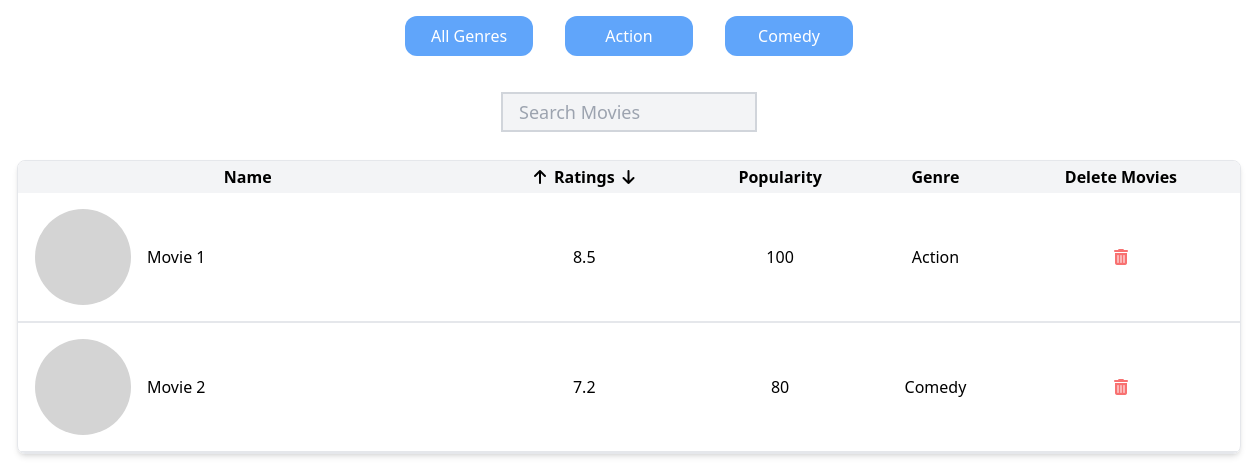
Test: Watchlist Component › filters movies by genre
The image size is (1259, 475).
Click the text "Action" at (629, 36), box [565,16,693,56]
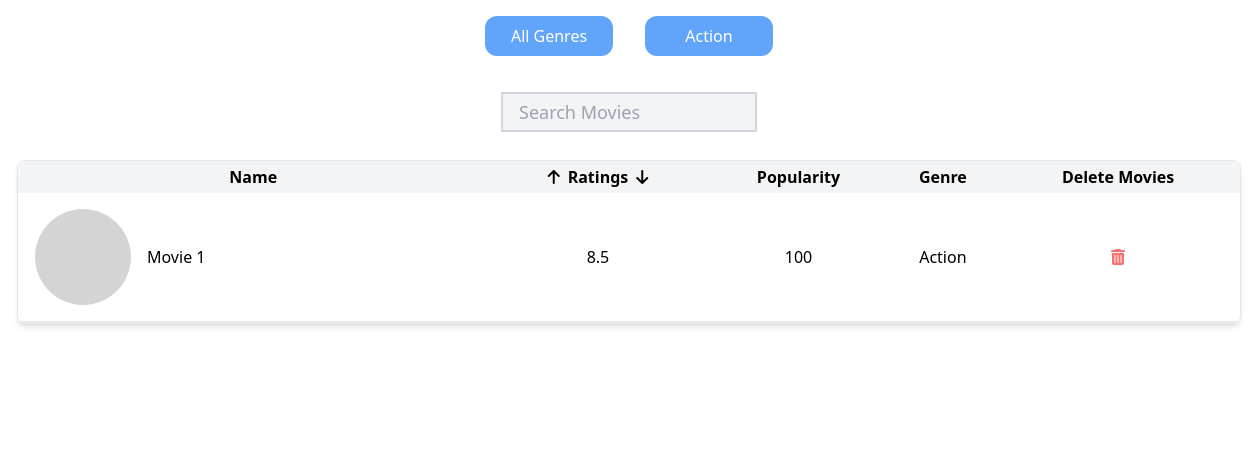
Expected: the text "Movie 1" is shown, [147,245,206,269]
Now the text "Movie 2" is gone
